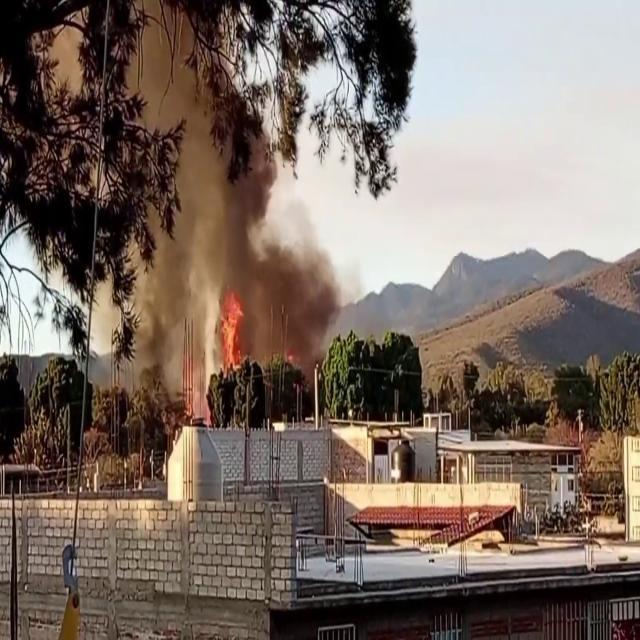Fire: (217, 286, 247, 374)
Smoke: (134, 9, 342, 386)
